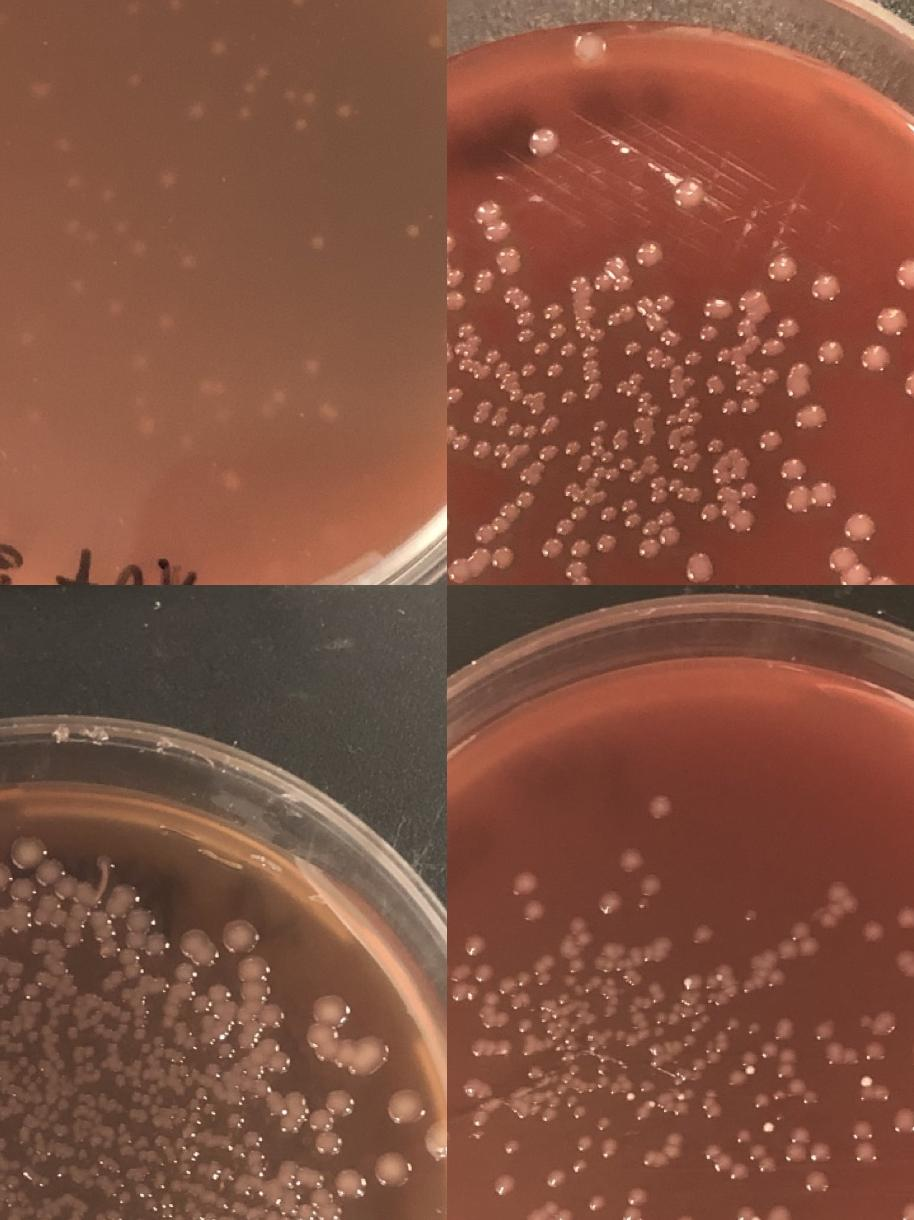pddamselae: (644, 345, 703, 426), (588, 418, 658, 486), (698, 464, 756, 534), (621, 498, 680, 562), (502, 284, 551, 360), (476, 490, 535, 544), (636, 294, 679, 349), (542, 301, 578, 359), (470, 439, 530, 472), (786, 479, 840, 514), (760, 316, 800, 362), (613, 372, 653, 416), (476, 199, 513, 245), (829, 546, 870, 585), (732, 364, 778, 398), (650, 476, 694, 504), (447, 401, 468, 457), (786, 362, 814, 402), (666, 434, 696, 470), (455, 320, 483, 356), (556, 505, 588, 536), (447, 260, 465, 314), (606, 256, 632, 292), (475, 348, 504, 380), (878, 309, 908, 337), (818, 338, 846, 367), (848, 514, 876, 542), (800, 406, 828, 434), (863, 344, 891, 372), (704, 294, 732, 322), (814, 274, 842, 302), (770, 256, 798, 284), (676, 180, 704, 208), (528, 128, 556, 156), (577, 34, 605, 62), (686, 554, 716, 580), (496, 247, 524, 274), (447, 557, 473, 585), (506, 420, 540, 440), (582, 368, 601, 403), (606, 306, 635, 328), (472, 267, 494, 295), (541, 536, 566, 560), (490, 546, 514, 570), (594, 530, 618, 554), (704, 374, 728, 398), (642, 242, 666, 266), (568, 561, 591, 585), (758, 430, 783, 452), (474, 399, 493, 426), (447, 385, 464, 411), (899, 260, 914, 287), (742, 399, 762, 419), (720, 398, 740, 418), (560, 390, 580, 410), (570, 537, 589, 557), (518, 360, 537, 380), (740, 482, 758, 502), (564, 438, 582, 458), (546, 362, 564, 382), (700, 324, 720, 342), (602, 503, 620, 522), (786, 461, 804, 480), (539, 443, 557, 462), (707, 437, 725, 455), (624, 340, 642, 358), (594, 274, 612, 292), (581, 345, 599, 362), (716, 347, 732, 366), (738, 319, 754, 338), (524, 468, 540, 486), (570, 274, 586, 292), (683, 352, 703, 366), (636, 434, 654, 448), (507, 388, 525, 402), (447, 228, 457, 251), (583, 494, 599, 508), (869, 578, 897, 585), (664, 412, 678, 426), (447, 339, 453, 365)
pdpiscicida: (762, 1042, 820, 1106), (818, 882, 860, 931), (737, 1130, 777, 1176), (705, 1144, 749, 1182), (779, 920, 819, 960), (641, 1131, 683, 1168), (237, 60, 275, 98), (258, 389, 291, 424), (498, 977, 529, 1012), (899, 955, 914, 1025), (280, 87, 324, 110), (784, 1126, 812, 1162), (618, 1185, 646, 1220), (523, 1203, 577, 1220), (824, 1044, 860, 1066), (690, 1050, 722, 1072), (493, 1170, 519, 1194), (803, 1170, 829, 1194), (544, 1166, 570, 1190), (853, 1141, 879, 1165), (871, 1010, 897, 1034), (462, 932, 488, 956), (520, 900, 546, 924), (594, 893, 620, 917), (638, 874, 664, 898), (511, 870, 537, 894), (618, 848, 644, 872), (648, 794, 674, 818), (858, 1084, 890, 1102), (652, 1009, 682, 1027), (156, 310, 179, 332), (127, 236, 150, 258), (159, 168, 182, 190), (27, 77, 49, 100), (125, 66, 148, 88), (231, 104, 252, 128), (893, 1109, 914, 1133), (221, 469, 243, 491), (138, 416, 160, 438), (211, 405, 233, 427), (318, 402, 340, 424), (192, 373, 214, 395), (304, 356, 326, 378), (19, 327, 41, 349), (69, 274, 91, 296), (306, 231, 328, 253), (402, 220, 424, 242), (60, 216, 82, 238), (110, 212, 132, 234), (97, 185, 119, 207), (65, 176, 87, 198), (50, 134, 72, 156), (287, 114, 309, 136), (333, 102, 355, 124), (186, 100, 208, 122), (209, 36, 231, 58), (426, 31, 447, 54), (107, 296, 128, 318), (895, 908, 914, 932), (178, 434, 198, 456), (132, 349, 152, 371), (180, 254, 200, 276), (82, 224, 102, 246), (810, 1142, 830, 1162), (502, 1136, 522, 1156), (475, 964, 495, 984), (866, 1040, 885, 1060), (692, 924, 711, 944), (124, 0, 146, 17), (852, 1120, 872, 1138), (816, 1020, 834, 1040), (768, 968, 786, 988), (864, 921, 882, 941), (765, 1207, 792, 1220), (707, 1102, 723, 1120), (742, 1048, 758, 1066), (536, 970, 552, 988), (0, 7, 13, 29), (164, 0, 186, 13), (737, 1206, 757, 1220), (572, 1158, 588, 1174), (572, 1104, 588, 1120), (755, 1092, 771, 1108), (595, 1074, 611, 1090), (724, 1014, 740, 1030), (748, 1020, 762, 1038), (589, 1196, 605, 1211), (600, 1142, 615, 1158), (730, 1071, 746, 1086), (652, 987, 666, 1004), (901, 1202, 914, 1220), (597, 1116, 613, 1130), (634, 1106, 650, 1120), (639, 1080, 655, 1094), (624, 1032, 638, 1048), (289, 0, 311, 10), (438, 324, 447, 347), (578, 1134, 592, 1148)
vharveyi: (99, 879, 168, 967), (306, 996, 364, 1070), (13, 836, 78, 900), (310, 1088, 356, 1160), (236, 1028, 290, 1072), (264, 1089, 304, 1136), (296, 1187, 341, 1220), (0, 861, 35, 902), (177, 923, 213, 960), (221, 918, 257, 954), (191, 983, 228, 1014), (422, 1116, 447, 1160), (335, 1167, 367, 1199), (378, 1153, 410, 1185), (390, 1092, 422, 1124), (258, 1003, 286, 1029), (242, 954, 268, 982), (88, 910, 110, 932), (203, 1160, 223, 1180), (242, 1128, 262, 1148), (226, 1112, 246, 1132), (175, 963, 195, 982), (246, 1152, 266, 1170), (216, 1042, 236, 1060), (28, 936, 48, 954)
